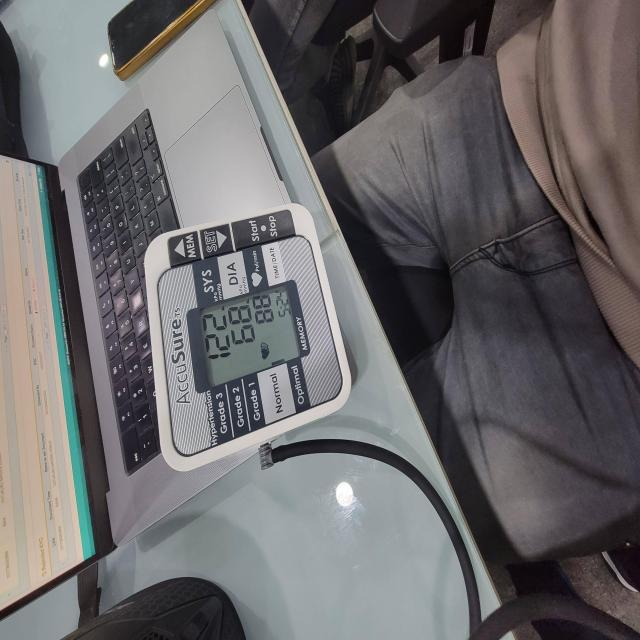bp: (109, 11, 359, 546)
